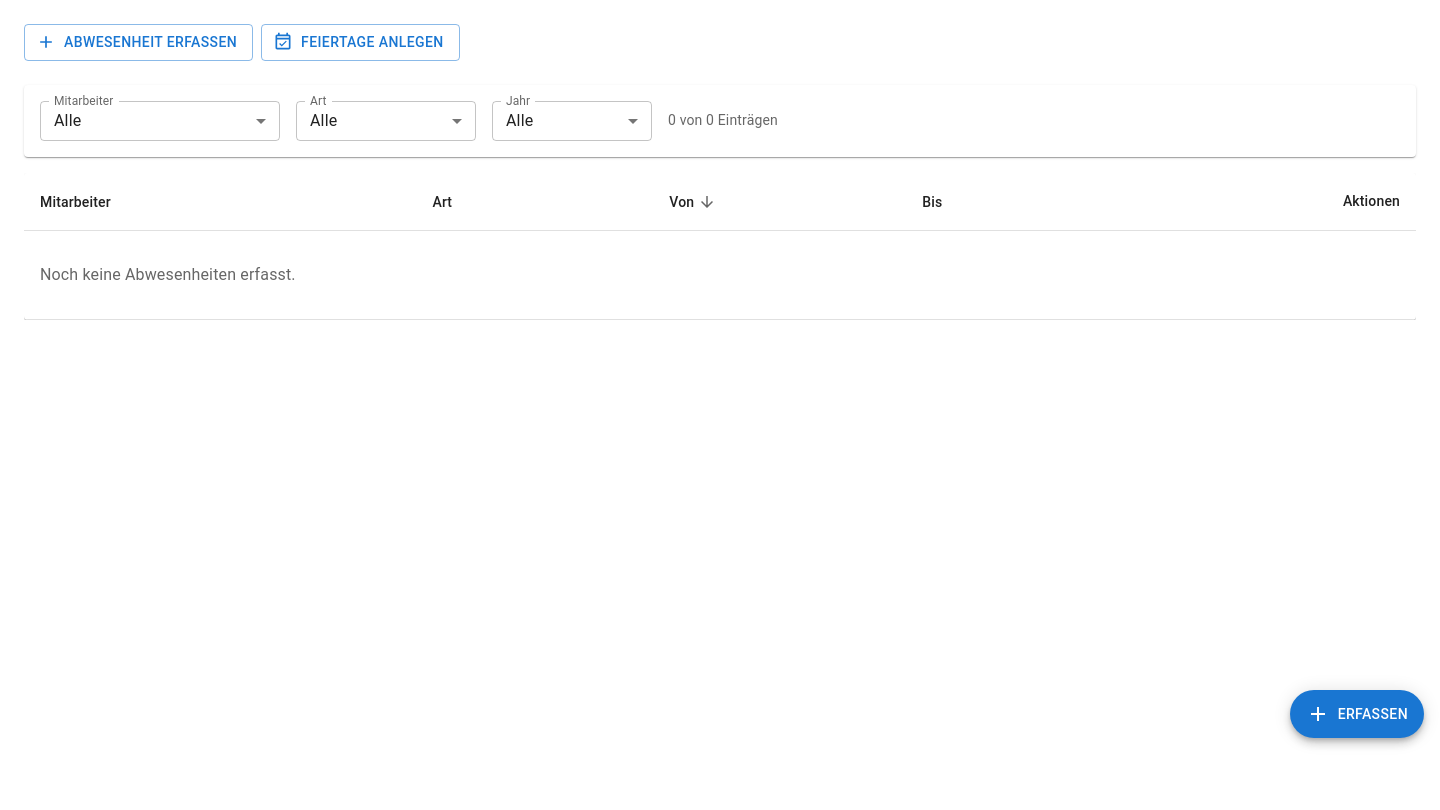
Test case: AbsencesView › with a branch selected › marks an inactive employee in the Mitarbeiter filter with "(inaktiv)"
The width and height of the screenshot is (1440, 810).
Click the dropdown named "Mitarbeiter" at (68, 120), box [54, 111, 81, 130]
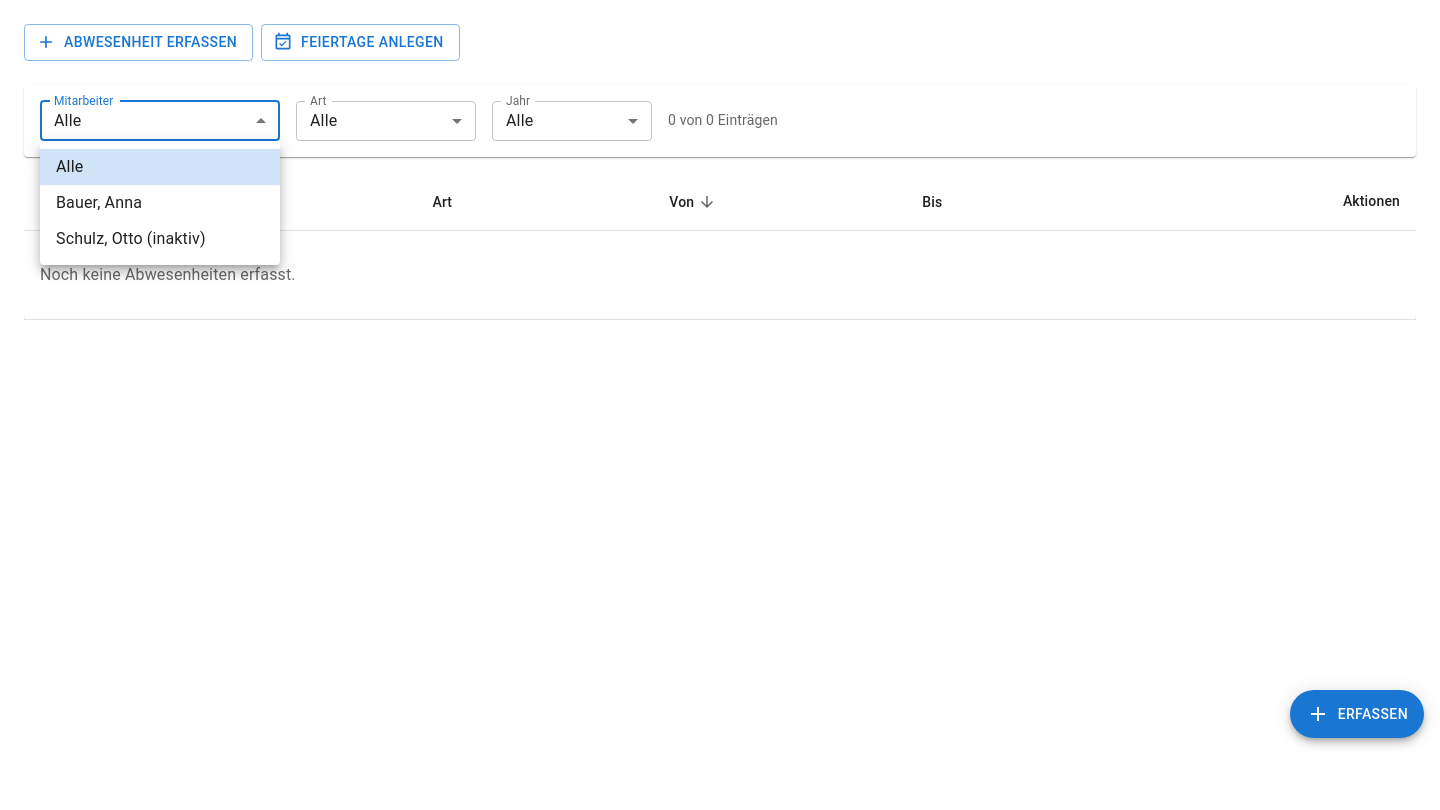
Check: the option "Bauer, Anna" is shown, box [56, 193, 142, 212]
Check: the option "Schulz, Otto (inaktiv)" is shown, box [56, 229, 206, 248]
